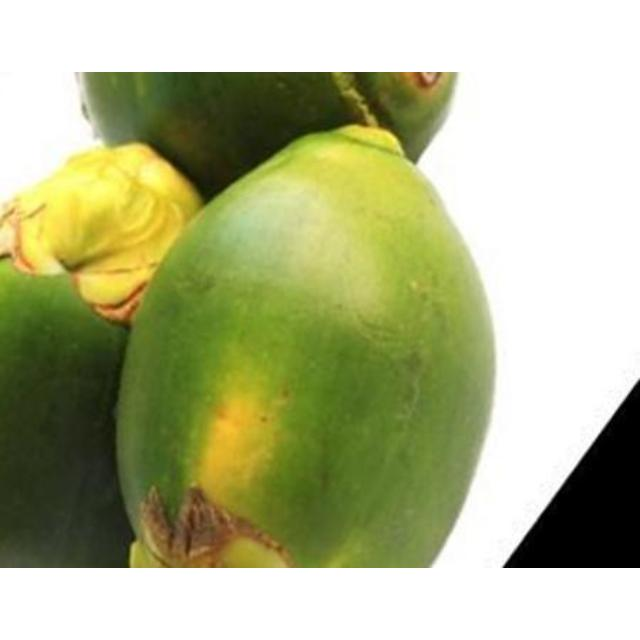good: (112, 126, 499, 567), (0, 146, 201, 567), (77, 72, 458, 204)
